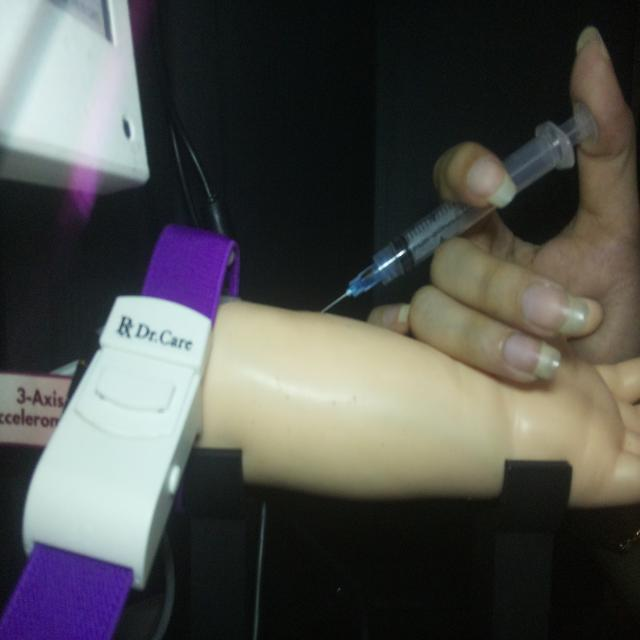23 degrees: (319, 98, 599, 316)
